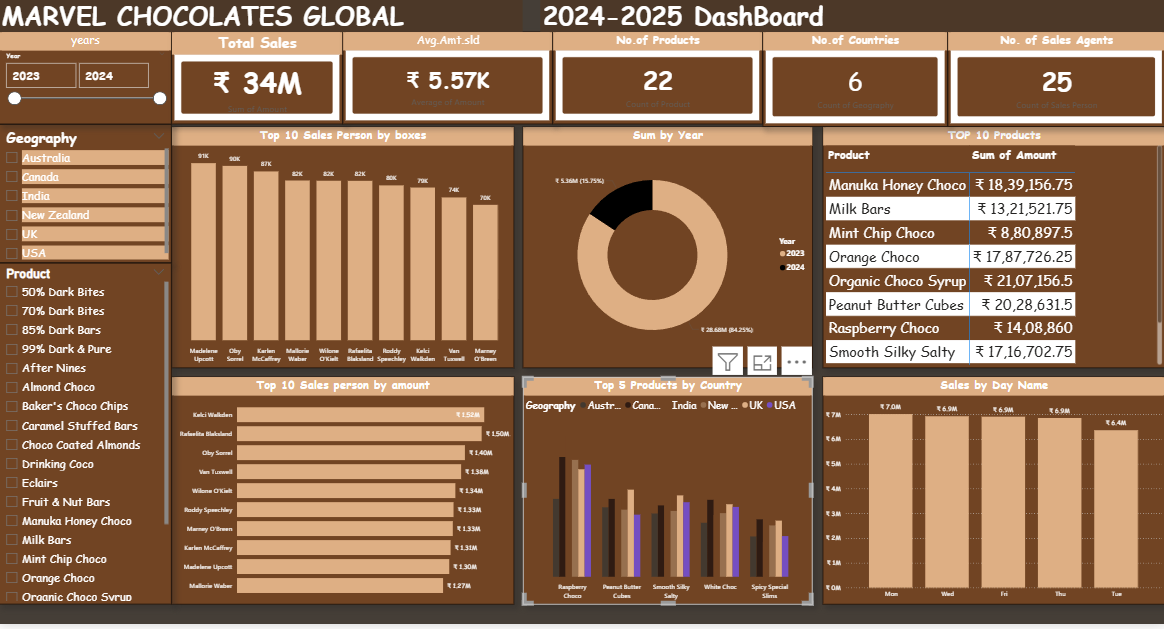

Layout of this report page (visuals, bound fields, positions):
{"tool":"powerbi","page":{"name":"Page 1","canvas":[2200,1200],"ordinal":0},"visuals":[{"type":"clusteredColumnChart","title":"Top 10 Sales Person by boxes","fields":{"Category":["shipments.Sales Person"],"Y":["shipments.Boxes"]},"box":[325.5,261.8,646.2,455.2],"z":0},{"type":"donutChart","title":"Sum by Year","fields":{"Category":["shipments.Year"],"Y":["shipments.Amount"]},"box":[988.2,261.8,547.2,455.2],"z":1},{"type":"pivotTable","title":"TOP 10 Products","fields":{"Rows":["shipments.Product"],"Values":["shipments.Amount"]},"box":[1554.3,261.8,646.2,455.2],"z":2},{"type":"clusteredBarChart","title":"Top 10 Sales person by amount","fields":{"Category":["shipments.Sales Person"],"Y":["shipments.Amount"]},"box":[325.5,733.5,646.2,429.2],"z":3},{"type":"clusteredColumnChart","title":"Top 5 Products by Country","fields":{"Category":["shipments.Product"],"Y":["shipments.Boxes"],"Series":["shipments.Geography"]},"box":[988.2,733.5,547.2,429.2],"z":4},{"type":"clusteredColumnChart","title":"Sales by Day Name","fields":{"Category":["shipments.Day Name"],"Y":["shipments.Amount"]},"box":[1554.3,733.5,646.2,429.2],"z":5},{"type":"slicer","fields":{"Values":["shipments.Geography"]},"box":[0,257.1,325.5,261.8],"z":6},{"type":"slicer","fields":{"Values":["shipments.Product"]},"box":[0,518.9,325.5,643.9],"z":7},{"type":"slicer","title":"years","fields":{"Values":["shipments.Year"]},"box":[0,82.5,325.5,174.5],"z":8},{"type":"cardVisual","title":"Total Sales","fields":{"Data":["shipments.Amount"]},"box":[325.5,82.5,323.1,174.5],"z":9},{"type":"cardVisual","title":"Avg.Amt.sld","fields":{"Data":["shipments.Amount"]},"box":[648.6,82.5,396.2,174.5],"z":10},{"type":"cardVisual","title":"No.of Products","fields":{"Data":["shipments.Product"]},"box":[1044.8,82.5,396.2,174.5],"z":11},{"type":"cardVisual","title":"No.of Countries","fields":{"Data":["shipments.Geography"]},"box":[1441,82.5,349.1,179.2],"z":12},{"type":"cardVisual","title":"No. of Sales Agents","fields":{"Data":["shipments.Sales Person"]},"box":[1790.1,82.5,410.4,179.2],"z":13},{"type":"textbox","title":"MARVEL CHOCOLATES GLOBAL","box":[0,16.5,988.2,66],"z":14},{"type":"textbox","title":"2024-2025 DashBoard","box":[1021.2,16.5,1179.2,66],"z":15}]}

Visuals, with their boxes in screenshot pixels (x1, y1, x2, y2), scaled from the page's 2200x1200 canvas onto the 1164x629 screenshot:
"Top 10 Sales Person by boxes" clusteredColumnChart: bbox=(172, 137, 514, 376)
"Sum by Year" donutChart: bbox=(523, 137, 812, 376)
"TOP 10 Products" pivotTable: bbox=(822, 137, 1163, 376)
"Top 10 Sales person by amount" clusteredBarChart: bbox=(172, 384, 514, 609)
"Top 5 Products by Country" clusteredColumnChart: bbox=(523, 384, 812, 609)
"Sales by Day Name" clusteredColumnChart: bbox=(822, 384, 1163, 609)
slicer - shipments.Geography: bbox=(0, 135, 172, 272)
slicer - shipments.Product: bbox=(0, 272, 172, 610)
"years" slicer: bbox=(0, 43, 172, 135)
"Total Sales" cardVisual: bbox=(172, 43, 343, 135)
"Avg.Amt.sld" cardVisual: bbox=(343, 43, 553, 135)
"No.of Products" cardVisual: bbox=(553, 43, 762, 135)
"No.of Countries" cardVisual: bbox=(762, 43, 947, 137)
"No. of Sales Agents" cardVisual: bbox=(947, 43, 1163, 137)
"MARVEL CHOCOLATES GLOBAL" textbox: bbox=(0, 9, 523, 43)
"2024-2025 DashBoard" textbox: bbox=(540, 9, 1163, 43)
